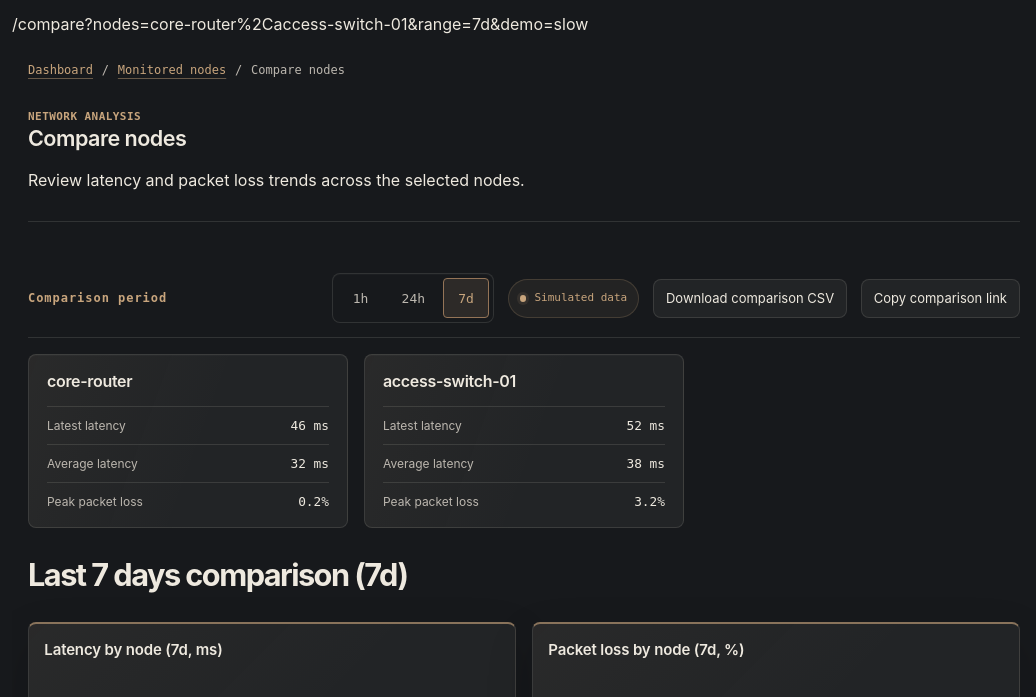
it: NetworkNodeComparisonPage › offers a clean comparison URL for manual copying when clipboard access fails
The image size is (1036, 697).
Click the button "Copy comparison link": {"x": 940, "y": 298} [861, 279, 1020, 318]
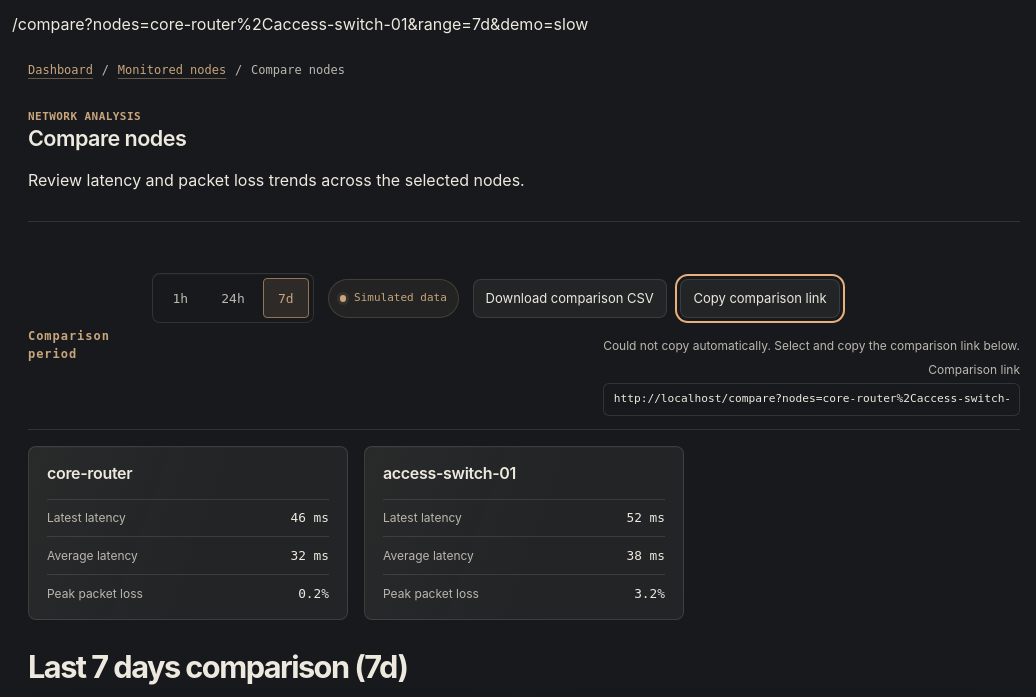
Expected: the message reads "Could not copy automatically. Select and copy the comparison link below.", [603, 338, 1020, 353]
